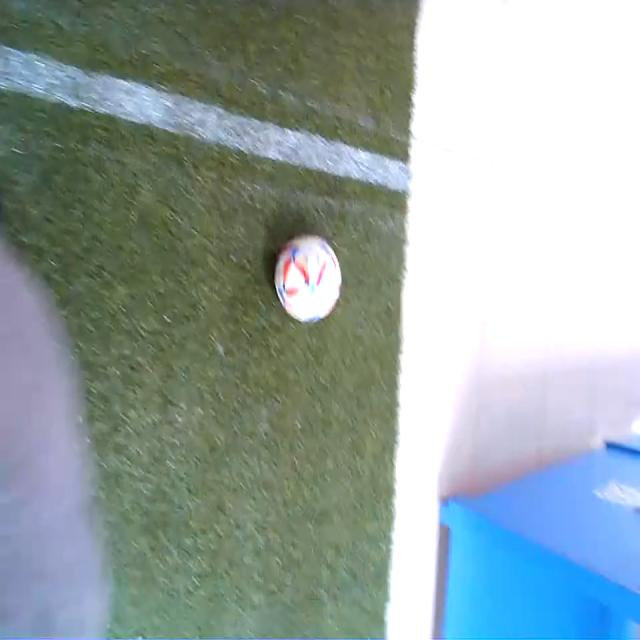ball: (276, 232, 343, 322)
